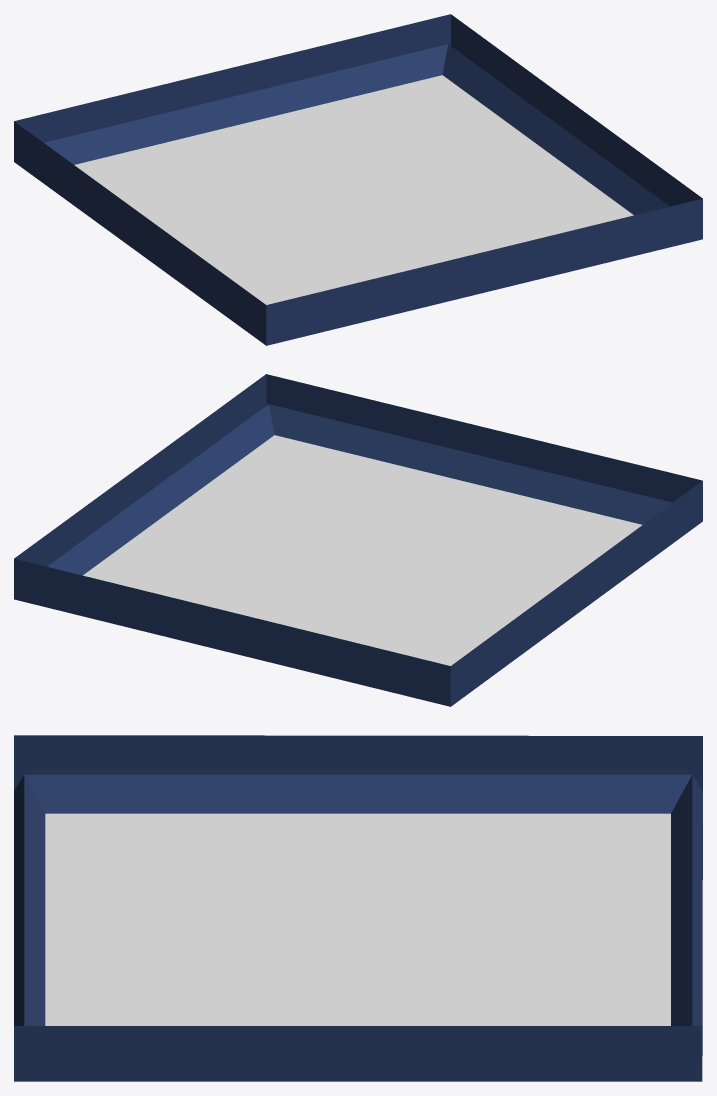
File: SquaredLight.fbx
The picture shows the model from 3 angles, top to bottom: view 1: azimuth 30°, elevation 25°; view 2: azimuth 150°, elevation 25°; view 3: azimuth 270°, elevation 25°; orthographic projection. The views are drawn at different scales.
Visible parts, largest first — view 1: Cube.011; view 2: Cube.011; view 3: Cube.011.
Boxes of the visible parts, x1,y1,x2,y2 form: Cube.011: [14, 14, 702, 345]; Cube.011: [14, 374, 702, 706]; Cube.011: [14, 735, 702, 1081].
Bounding box in the file's own units: 200 × 20.9 × 200.
